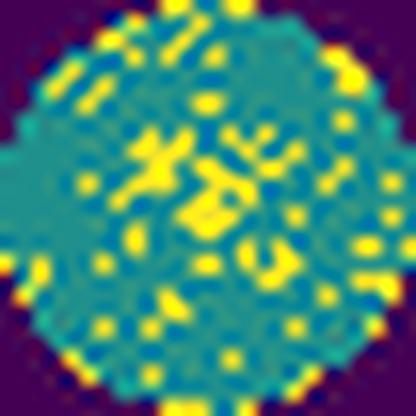Center: (104, 122, 306, 292)
